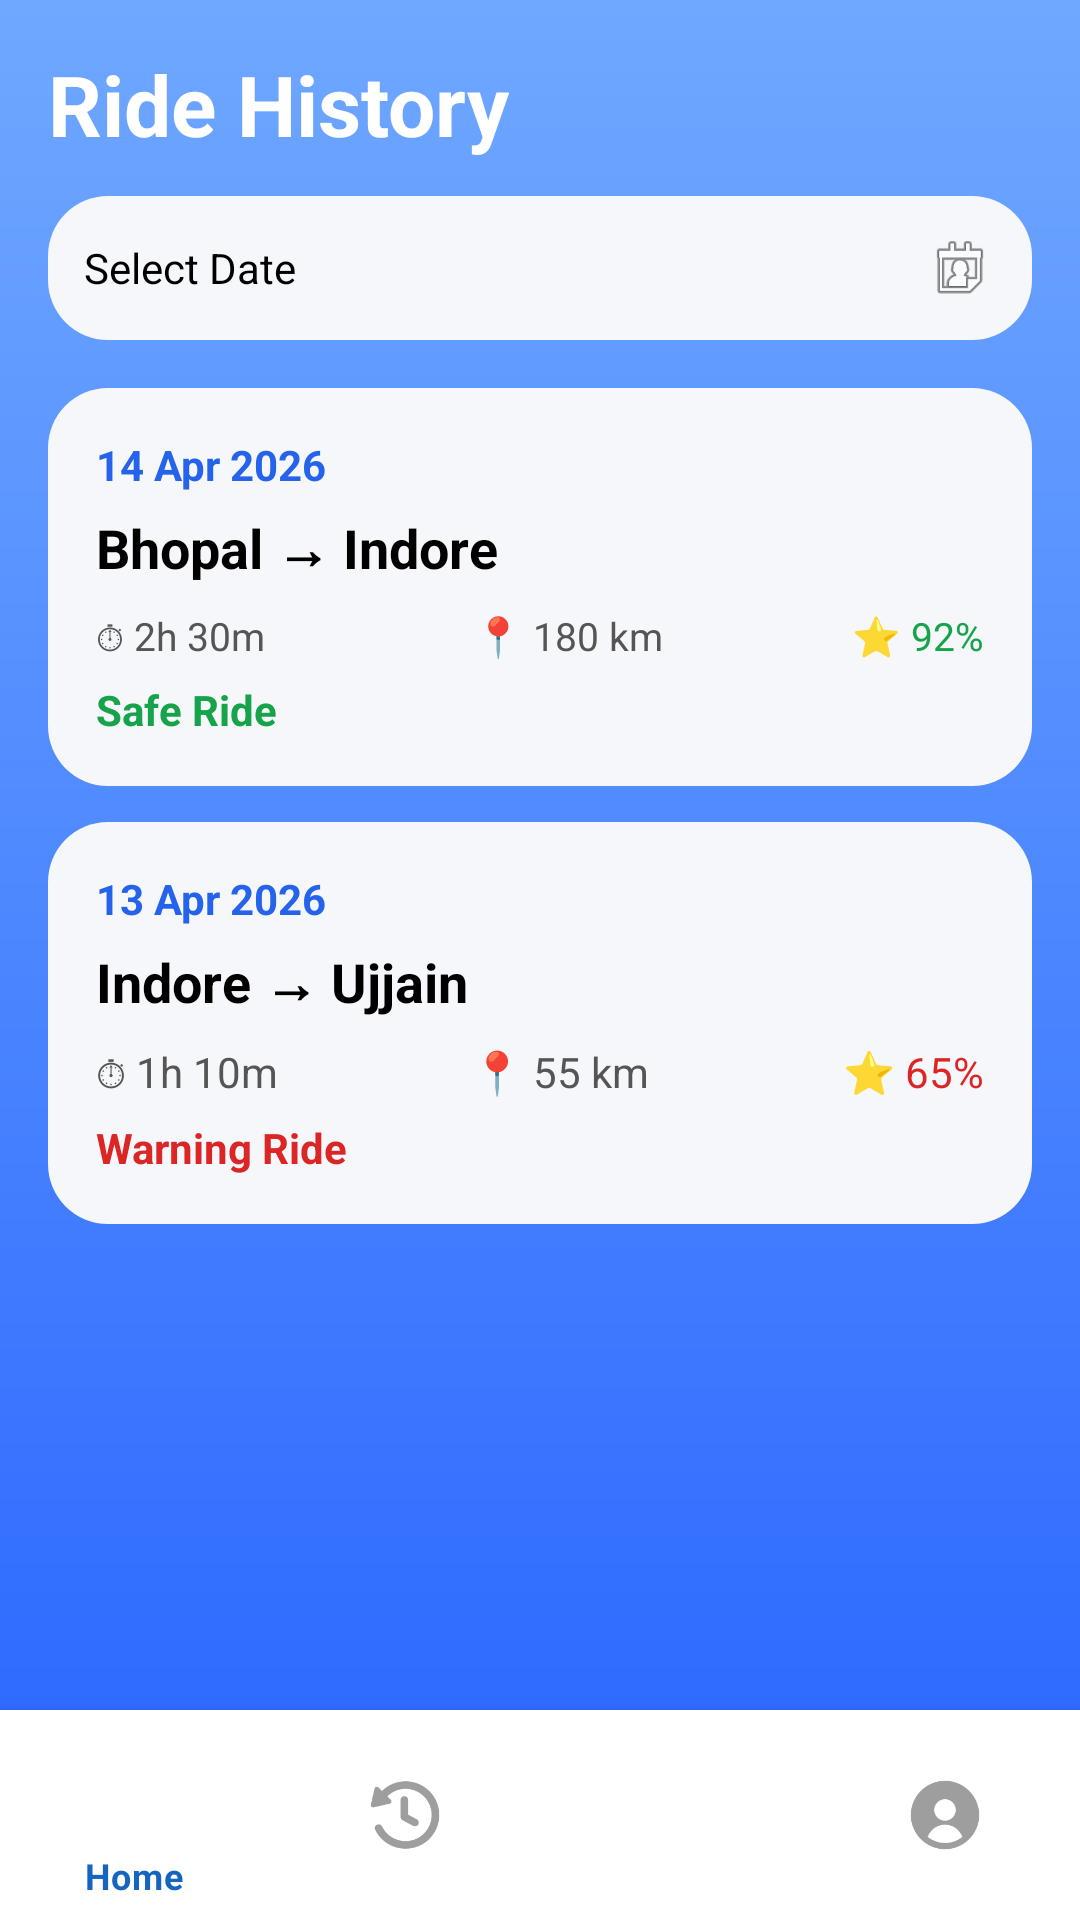

Point at icon controls on the screen. Image size 1080 × 1920, points as [x,y].
calendar: [960,267]
